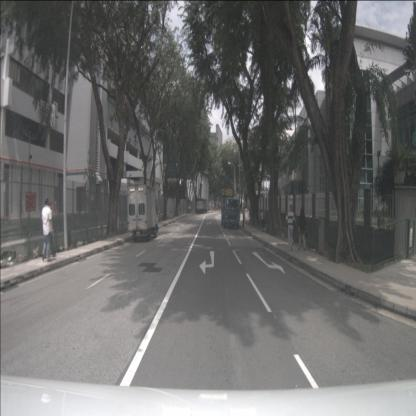human-pedestrian-adult: (41, 198, 54, 262), (43, 201, 56, 259), (286, 203, 296, 252), (298, 206, 308, 252), (260, 210, 266, 234), (249, 207, 252, 229), (242, 206, 245, 228), (189, 204, 191, 214)
vehicle-truck: (127, 184, 159, 242), (221, 198, 240, 230), (196, 199, 208, 213)
